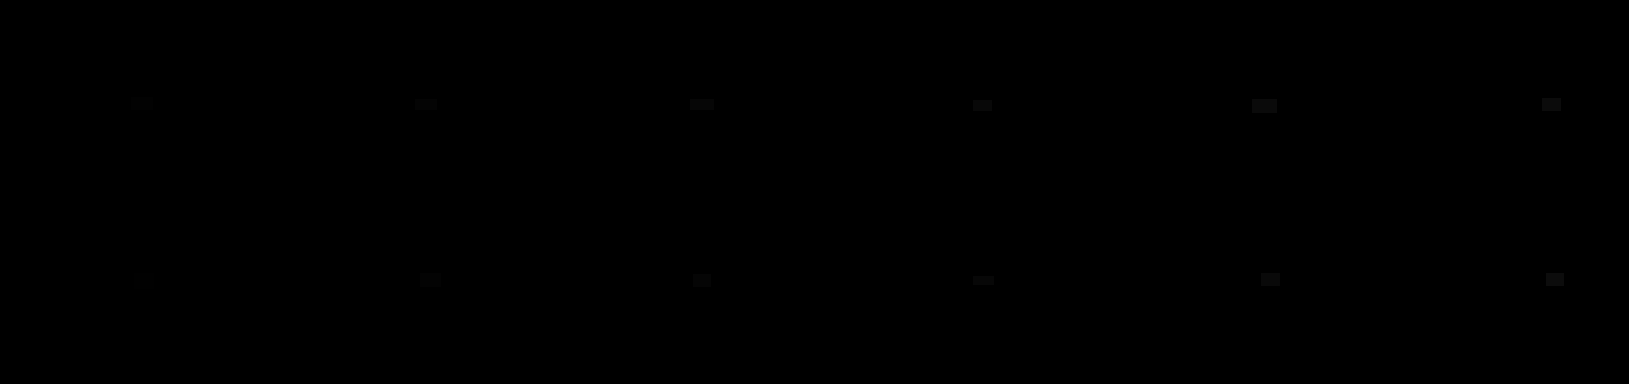light: (1252, 99, 1277, 113), (134, 273, 154, 289), (420, 273, 440, 287), (131, 97, 153, 110), (690, 99, 714, 110), (1542, 98, 1561, 111), (415, 99, 437, 110), (1261, 273, 1280, 286), (693, 274, 711, 287), (1546, 273, 1564, 286), (973, 100, 992, 111), (973, 276, 994, 285)
